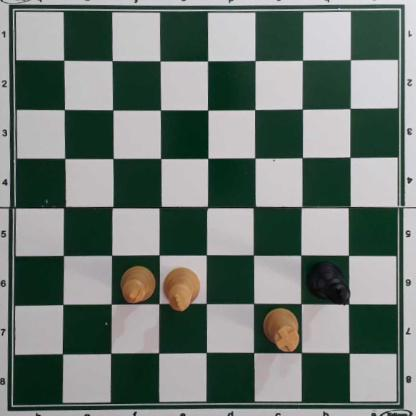black-king: (305, 261, 351, 307)
white-bishop: (122, 266, 155, 305)
white-king: (163, 267, 201, 313)
white-rook: (263, 308, 300, 353)
